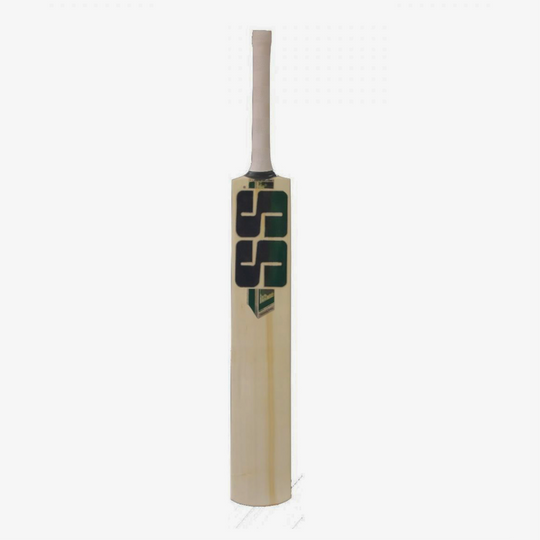bottom left: (221, 483, 250, 512)
bottom right: (278, 480, 311, 513)
top left: (212, 168, 251, 201)
top right: (272, 164, 309, 202)
